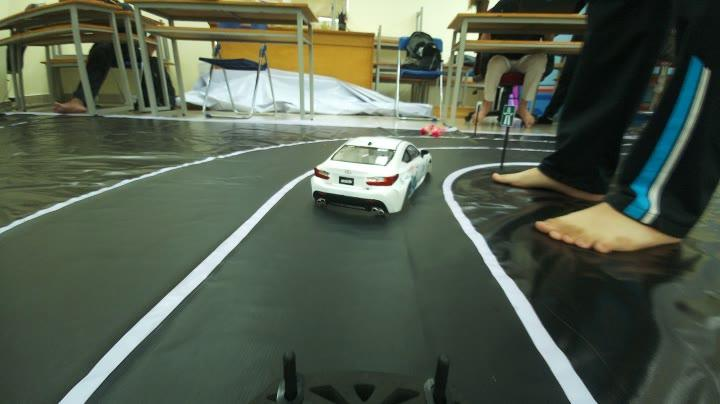car: (310, 124, 420, 224)
highway_entry: (499, 102, 519, 127)
